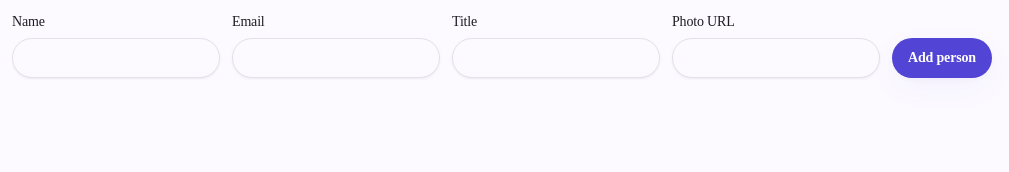
CreatePersonForm › shows an inline error when creation fails
This screenshot has width=1009, height=172.
Type "X" into the field labelled "Name". click: (116, 58)
box: [12,38,220,78]
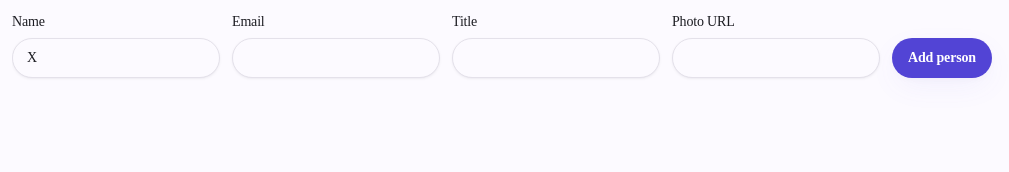
Click the button "Add person". click: click(942, 58)
box: [892,38,992,78]
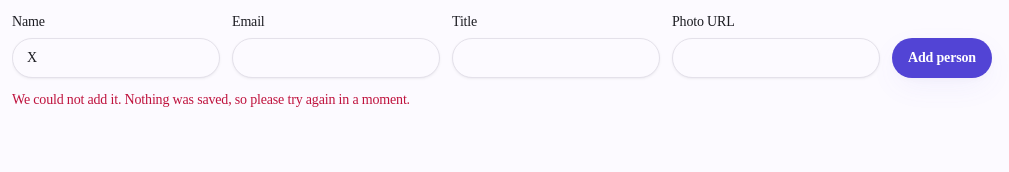
Expected: the message reads "We could not add it. Nothing was saved, so please try again in a moment.", [12,92,410,107]
